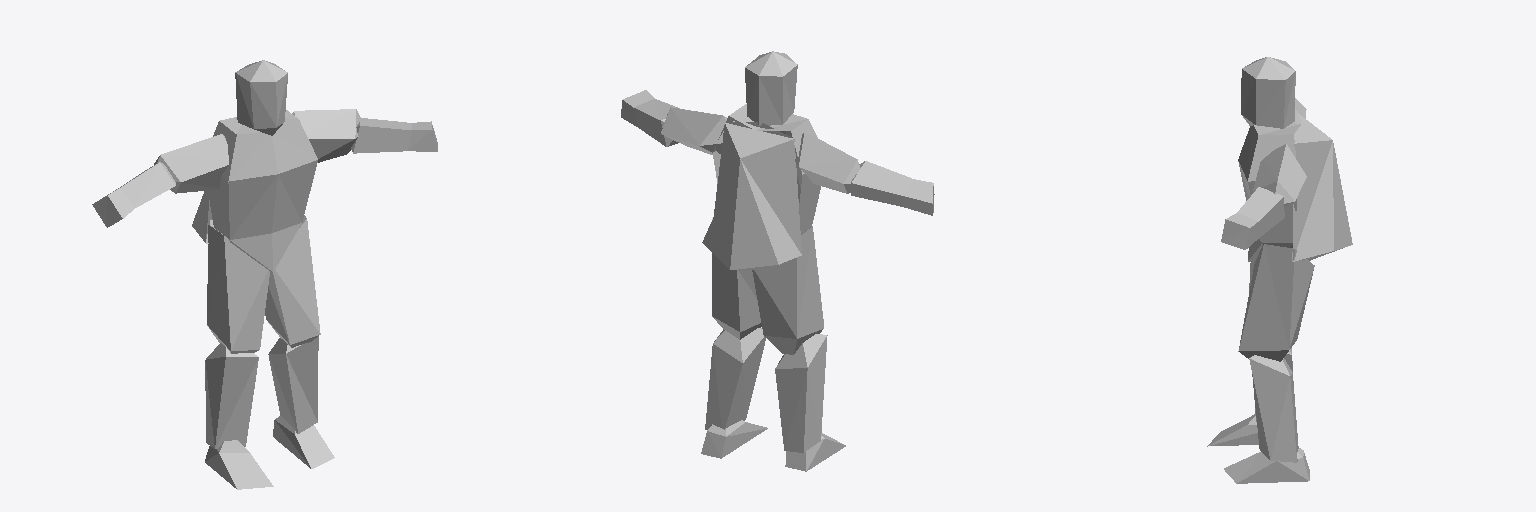
Rendered from npc_doll.obj.
3 renders of one model, left to right at view 1: azimuth 30°, elevation 25°; view 2: azimuth 150°, elevation 25°; view 3: azimuth 270°, elevation 25°, orthographic.
Size of the model in its own units: 2.39 by 2.78 by 0.9173.